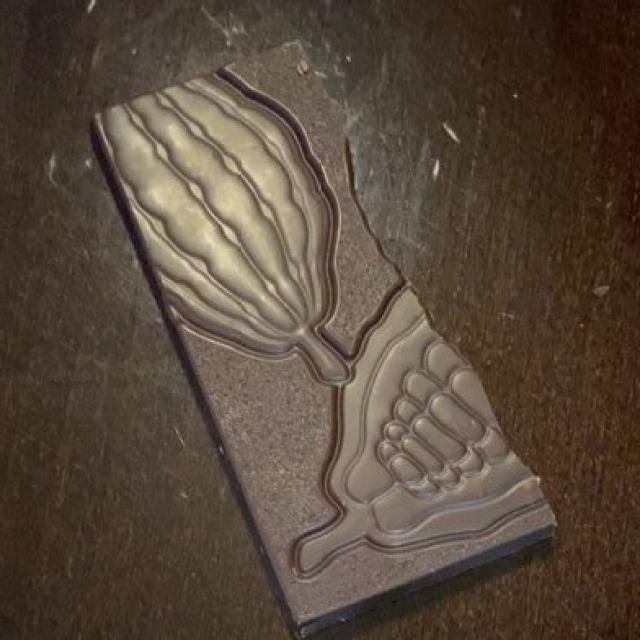dark-chocolate: (82, 41, 563, 639)
